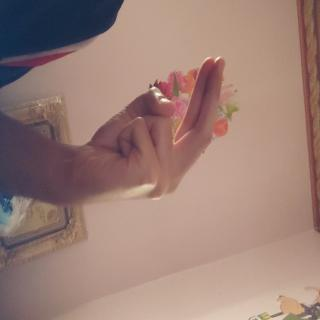ZAY: (41, 124, 162, 320)
